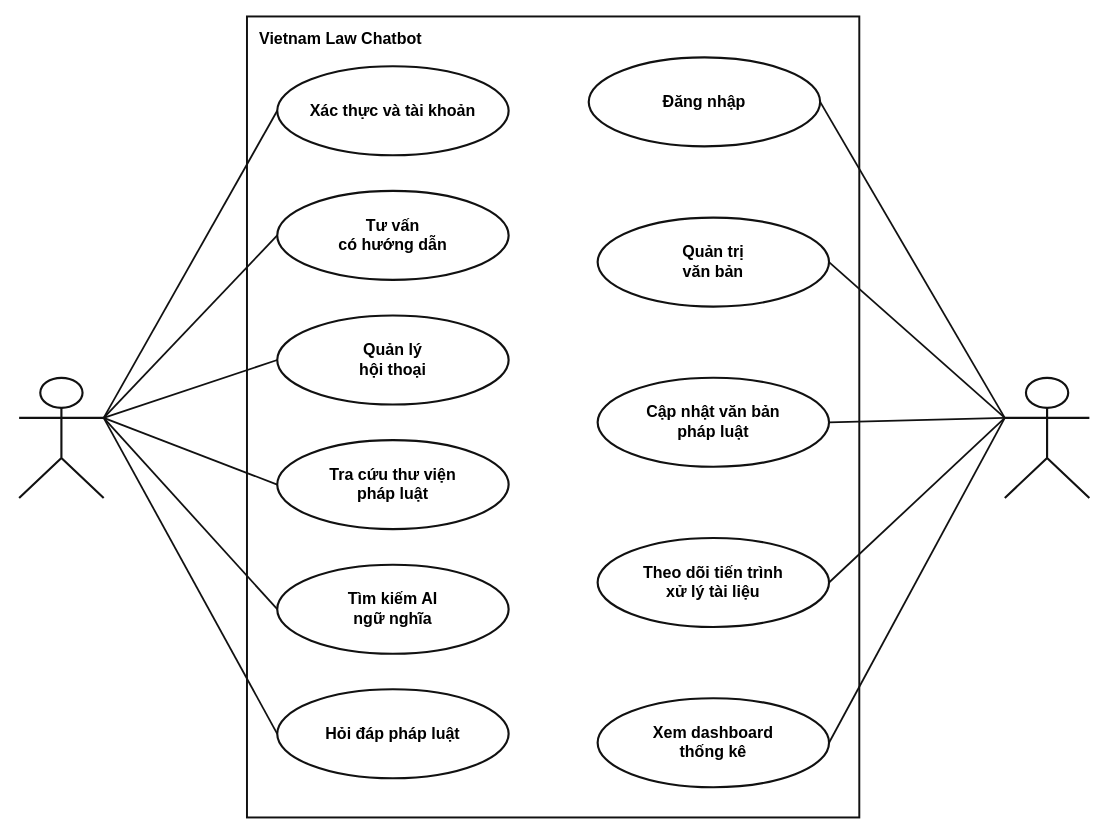
Image size: 1112x834. Some labels were removed from this diagram. The shapes that lost their labels are listed below. From the top down, each one's centre as x and y in pixels, then its label:
At [61,437]: "Người dùng".
At [1046,437]: "Quản trị viên".
